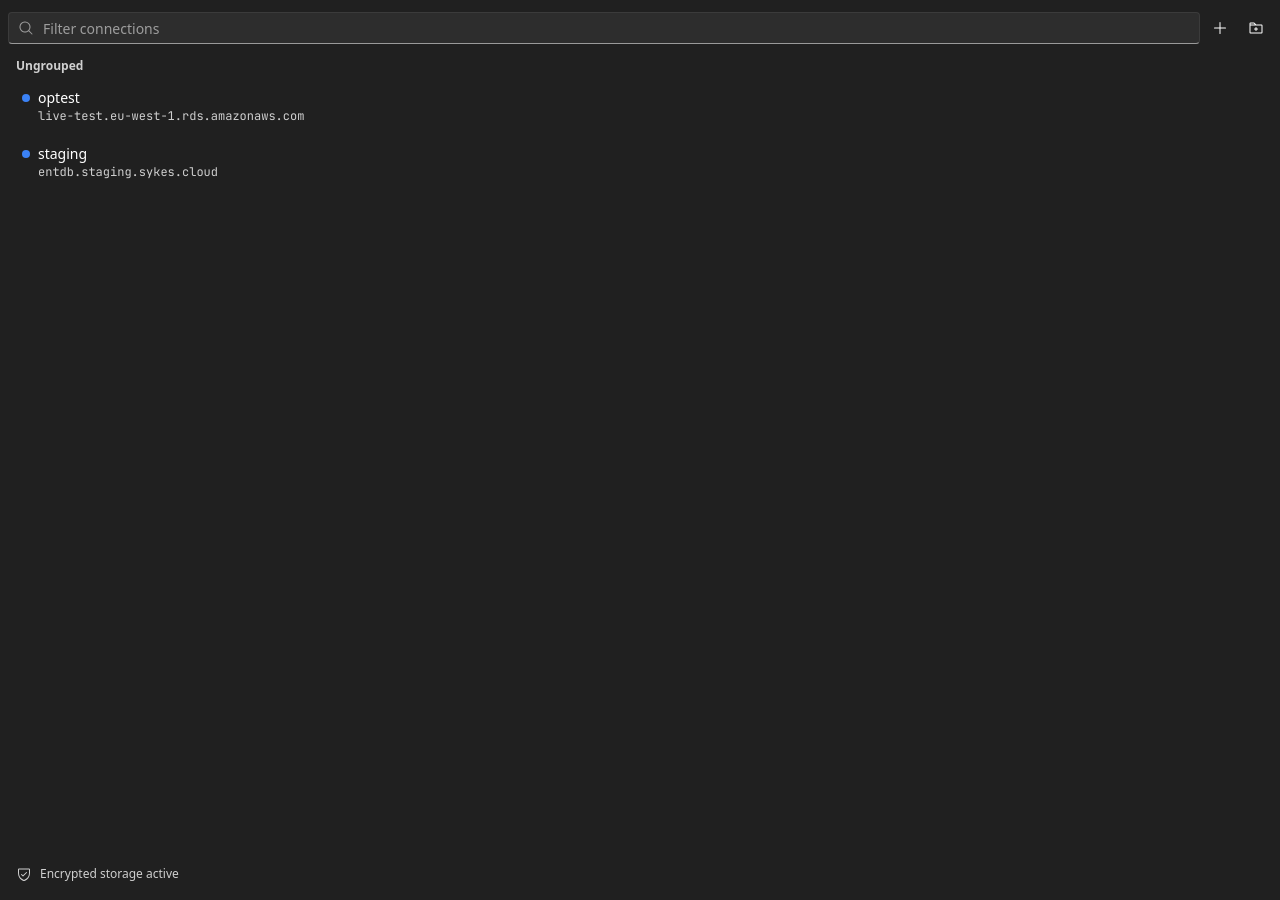
Test case: SavedConnectionsList › quick filter › does not loosely match unrelated connections via scattered host chars
This screenshot has width=1280, height=900.
Type "tes" into the field with test id "connection-filter-input" at (604,28), box [8,12,1200,44]
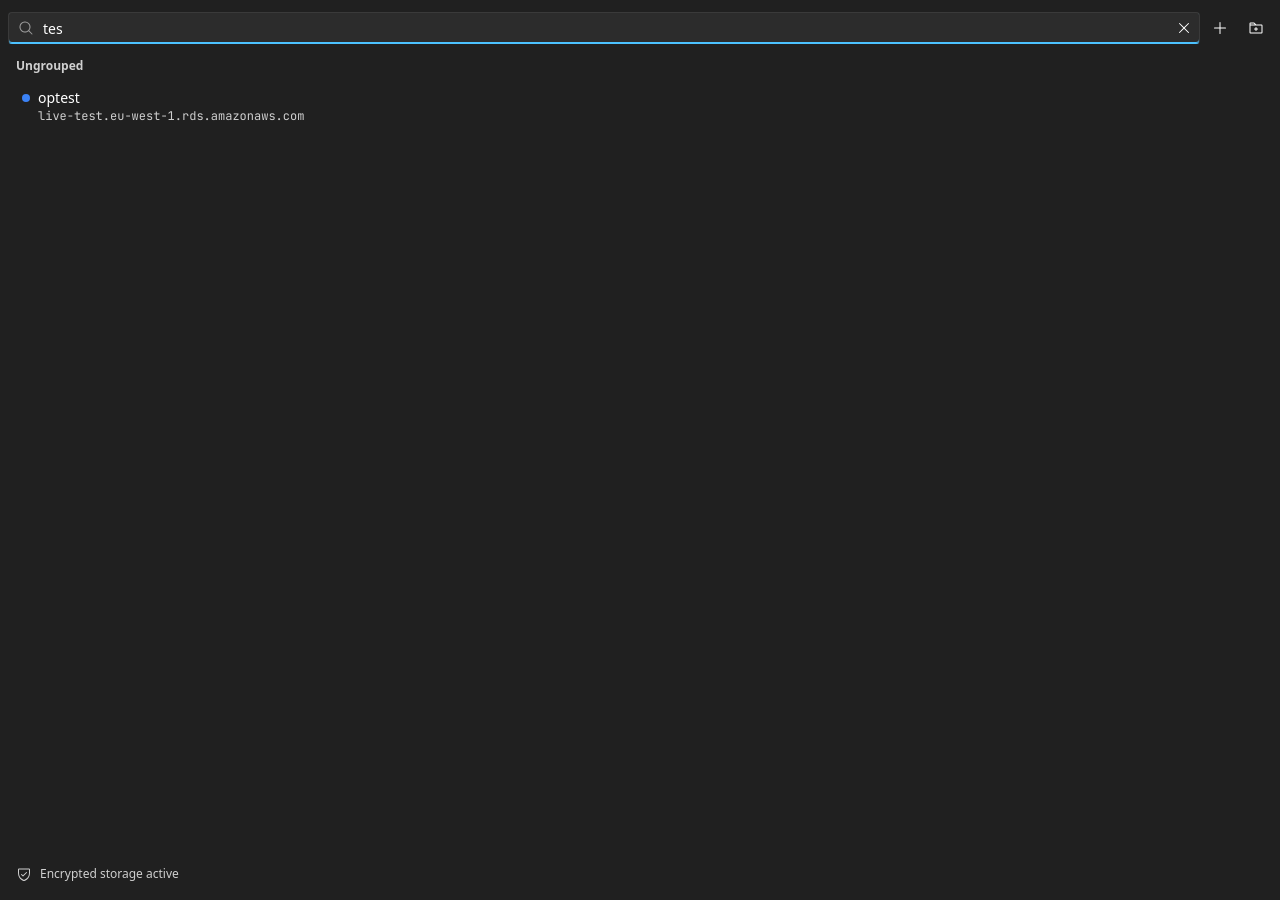
Expected: the text "optest" is shown, [38,88,80,108]
Expected: the button "staging" is gone
